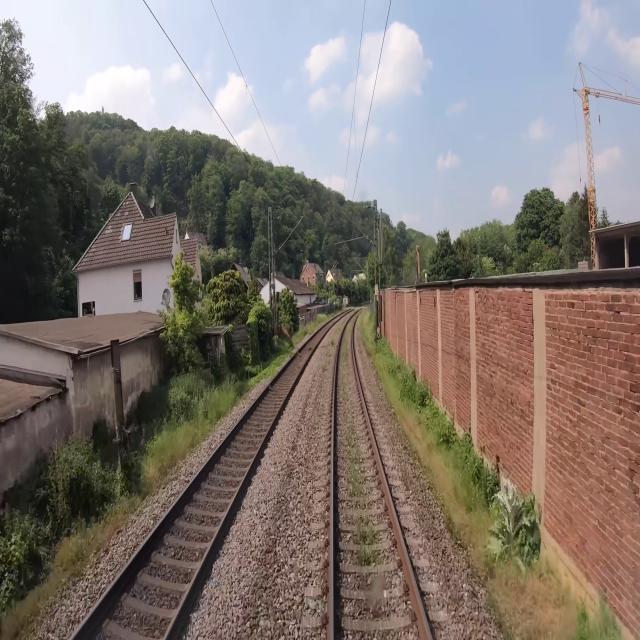Plant: (342, 323, 360, 467), (257, 350, 294, 382), (332, 319, 346, 345), (357, 548, 374, 567), (357, 528, 374, 544), (322, 348, 332, 369), (351, 484, 363, 495), (350, 470, 361, 480), (357, 317, 361, 329)
